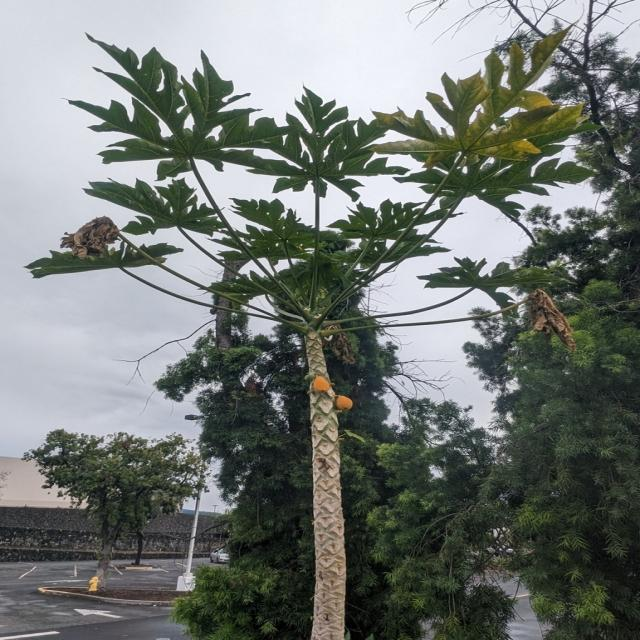Papaya-Tree: (204, 138, 470, 640)
